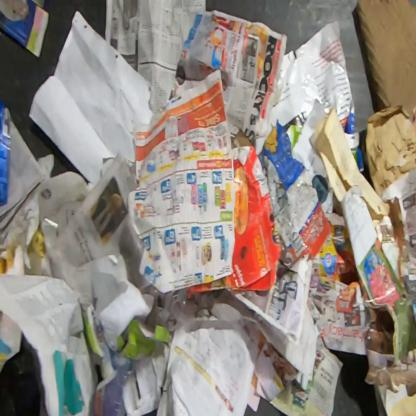cardboard: (185, 145, 282, 299), (258, 118, 334, 263), (357, 0, 415, 129), (81, 301, 171, 381)
rigid_plastic: (0, 100, 12, 206)
